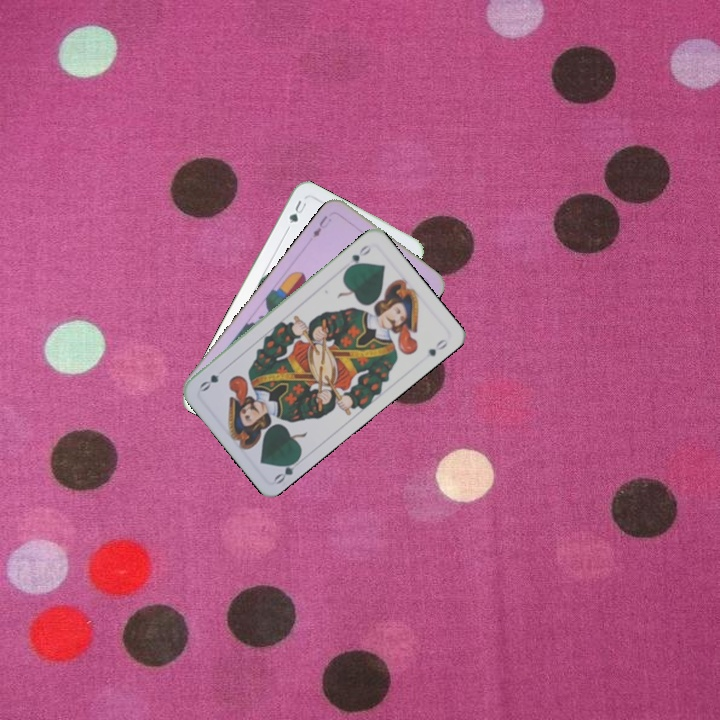EU: (308, 212, 334, 240)
GO: (270, 453, 303, 487), (342, 241, 374, 273)
GU: (285, 196, 309, 226)
